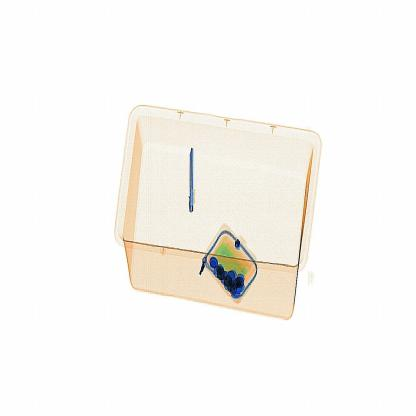pliers: (180, 138, 206, 216)
